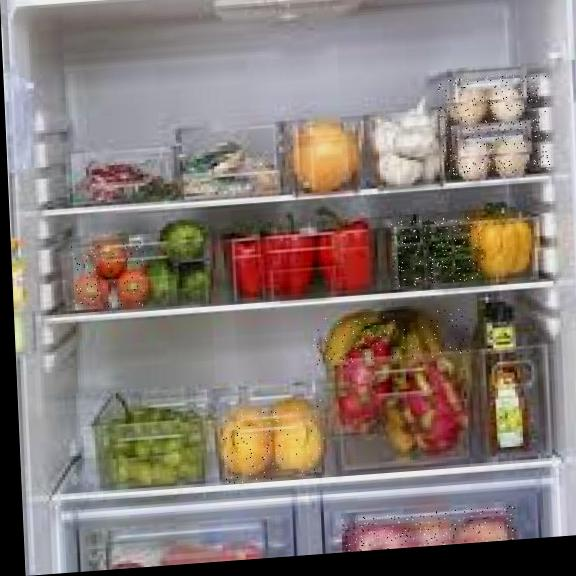apple: (341, 506, 516, 553)
banana: (309, 307, 468, 367)
carrots: (69, 240, 146, 311)
eggs: (439, 73, 551, 178)
green beans: (391, 215, 484, 287)
lemon: (265, 397, 330, 480), (222, 410, 285, 488)
